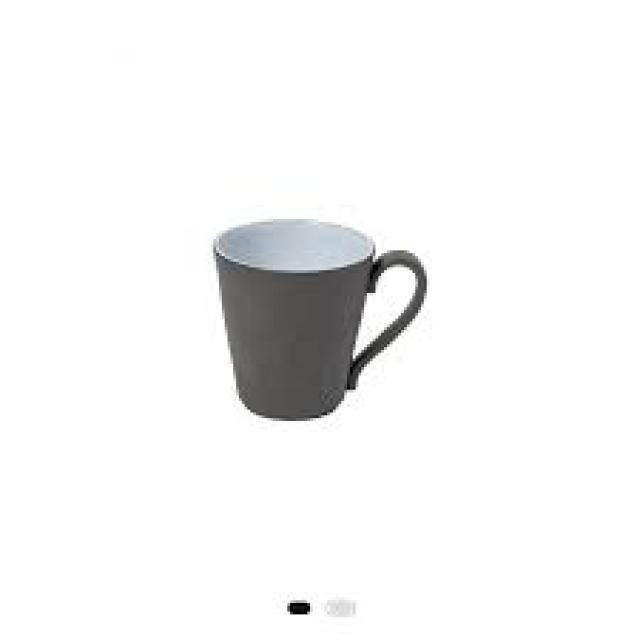taza: (212, 215, 426, 424)
